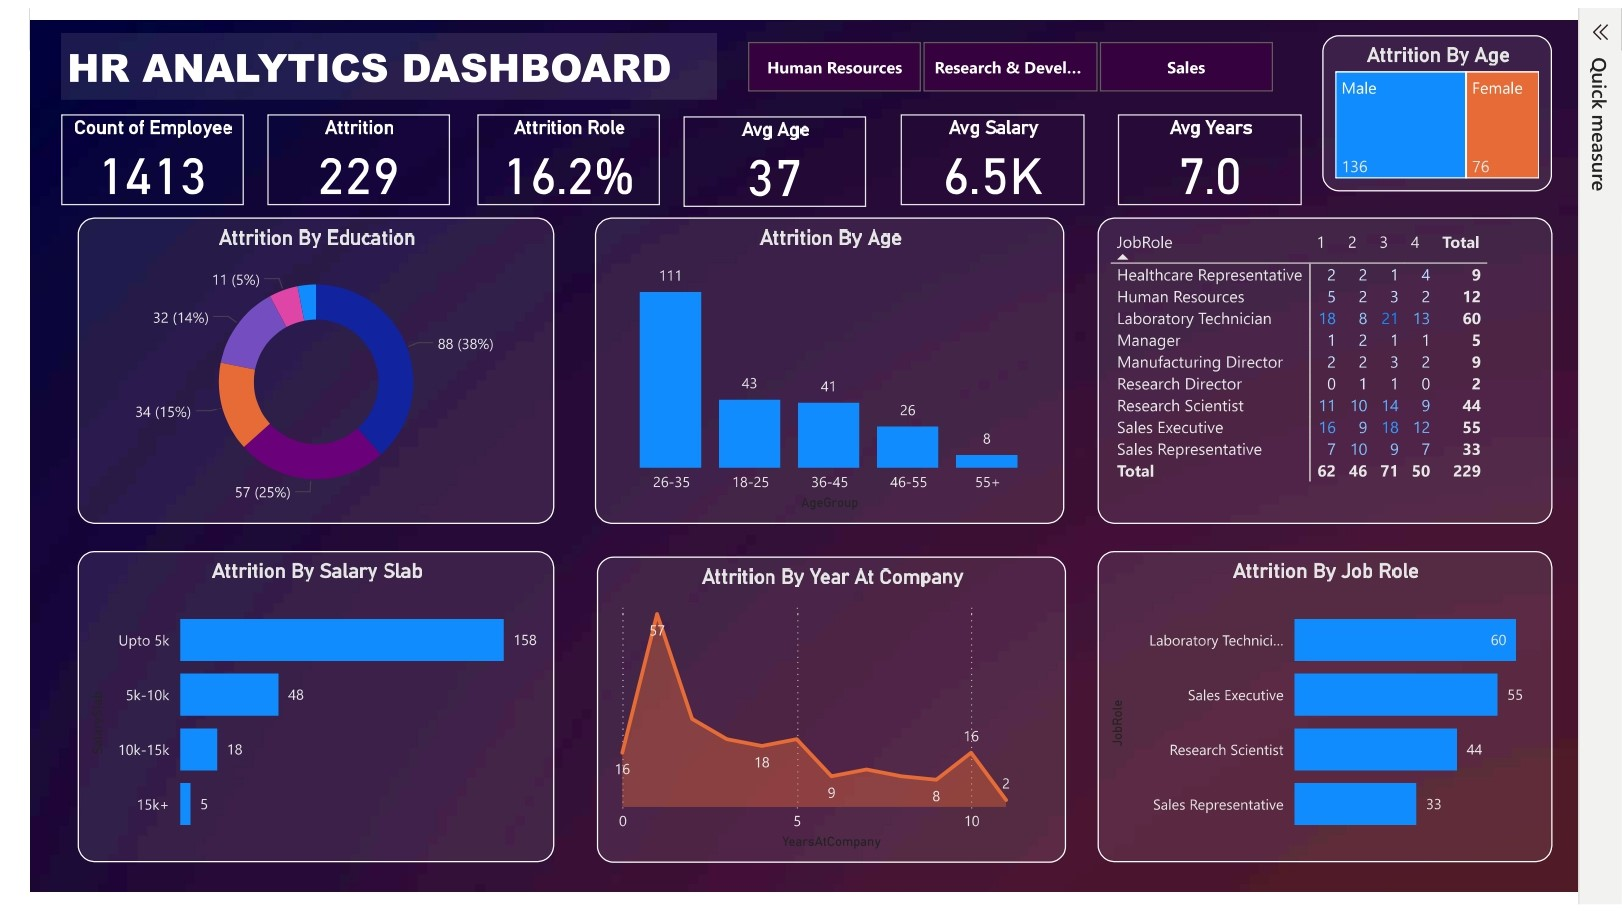

The page's visual inventory and layout, read from the dashboard file:
{"tool":"powerbi","page":{"name":"Page 1","canvas":[1280,720],"ordinal":0},"visuals":[{"type":"card","title":"Count of Employee","fields":{"Values":["CountNonNull(HR_Analytics.EmpID)"]},"box":[25.9,77.6,150.7,74.6],"z":0},{"type":"card","title":"Attrition","fields":{"Values":["Sum(HR_Analytics.AttritionCount)"]},"box":[196.3,77.6,150.7,74.6],"z":1000},{"type":"card","title":"Attrition Role","fields":{"Values":["HR_Analytics.AttritionRate"]},"box":[369.8,77.6,150.7,74.6],"z":2000},{"type":"card","title":"Avg Age","fields":{"Values":["Avg(HR_Analytics.Age)"]},"box":[540.3,79.1,150.7,74.6],"z":3000},{"type":"card","title":"Avg Salary","fields":{"Values":["Avg(HR_Analytics.MonthlyIncome)"]},"box":[719.9,77.6,152.2,74.6],"z":4000},{"type":"card","title":"Avg Years","fields":{"Values":["Avg(HR_Analytics.YearsAtCompany)"]},"box":[899.5,77.6,152.2,74.6],"z":5000},{"type":"donutChart","title":"Attrition By Education","fields":{"Category":["HR_Analytics.EducationField"],"Y":["Sum(HR_Analytics.AttritionCount)"]},"box":[39.6,162.9,394.2,252.7],"z":6000},{"type":"columnChart","title":"Attrition By Age","fields":{"Category":["HR_Analytics.AgeGroup"],"Y":["Sum(HR_Analytics.AttritionCount)"]},"box":[467.3,162.9,388.1,252.7],"z":7000},{"type":"pivotTable","fields":{"Rows":["HR_Analytics.JobRole"],"Columns":["HR_Analytics.JobSatisfaction"],"Values":["Sum(HR_Analytics.AttritionCount)"]},"box":[882.8,162.9,375.9,252.7],"z":8000},{"type":"barChart","title":"Attrition By Salary Slab","fields":{"Category":["HR_Analytics.SalarySlab"],"Y":["Sum(HR_Analytics.AttritionCount)"]},"box":[39.6,438.3,394.2,257.2],"z":9000},{"type":"barChart","title":"Attrition By Job Role","fields":{"Category":["HR_Analytics.JobRole"],"Y":["Sum(HR_Analytics.AttritionCount)"]},"box":[882.8,438.3,375.9,257.2],"z":10000},{"type":"areaChart","title":"Attrition By Year At Company","fields":{"Category":["HR_Analytics.YearsAtCompany"],"Y":["Sum(HR_Analytics.AttritionCount)"]},"box":[468.8,442.9,388.1,252.7],"z":10001},{"type":"treemap","title":"Attrition By Age","fields":{"Group":["HR_Analytics.Gender"],"Values":["Sum(HR_Analytics.AttritionCount)"]},"box":[1068.4,12.2,190.2,129.4],"z":10002},{"type":"slicer","fields":{"Values":["HR_Analytics.Department"]},"box":[567.7,10.7,484,54.8],"z":10003},{"type":"textbox","box":[25.9,10.7,541.8,54.8],"z":10004}]}

Visuals, with their boxes in screenshot pixels (x1, y1, x2, y2):
"Count of Employee" card: (left=0, top=88, right=174, bottom=185)
"Attrition" card: (left=199, top=88, right=395, bottom=185)
"Attrition Role" card: (left=424, top=88, right=619, bottom=185)
"Avg Age" card: (left=645, top=90, right=840, bottom=186)
"Avg Salary" card: (left=878, top=88, right=1075, bottom=185)
"Avg Years" card: (left=1110, top=88, right=1308, bottom=185)
"Attrition By Education" donutChart: (left=0, top=198, right=507, bottom=526)
"Attrition By Age" columnChart: (left=551, top=198, right=1053, bottom=526)
pivotTable - HR_Analytics.JobRole x HR_Analytics.JobSatisfaction: (left=1089, top=198, right=1576, bottom=526)
"Attrition By Salary Slab" barChart: (left=0, top=555, right=507, bottom=888)
"Attrition By Job Role" barChart: (left=1089, top=555, right=1576, bottom=888)
"Attrition By Year At Company" areaChart: (left=552, top=561, right=1055, bottom=889)
"Attrition By Age" treemap: (left=1329, top=3, right=1576, bottom=171)
slicer - HR_Analytics.Department: (left=681, top=1, right=1308, bottom=72)
textbox: (left=0, top=1, right=681, bottom=72)
